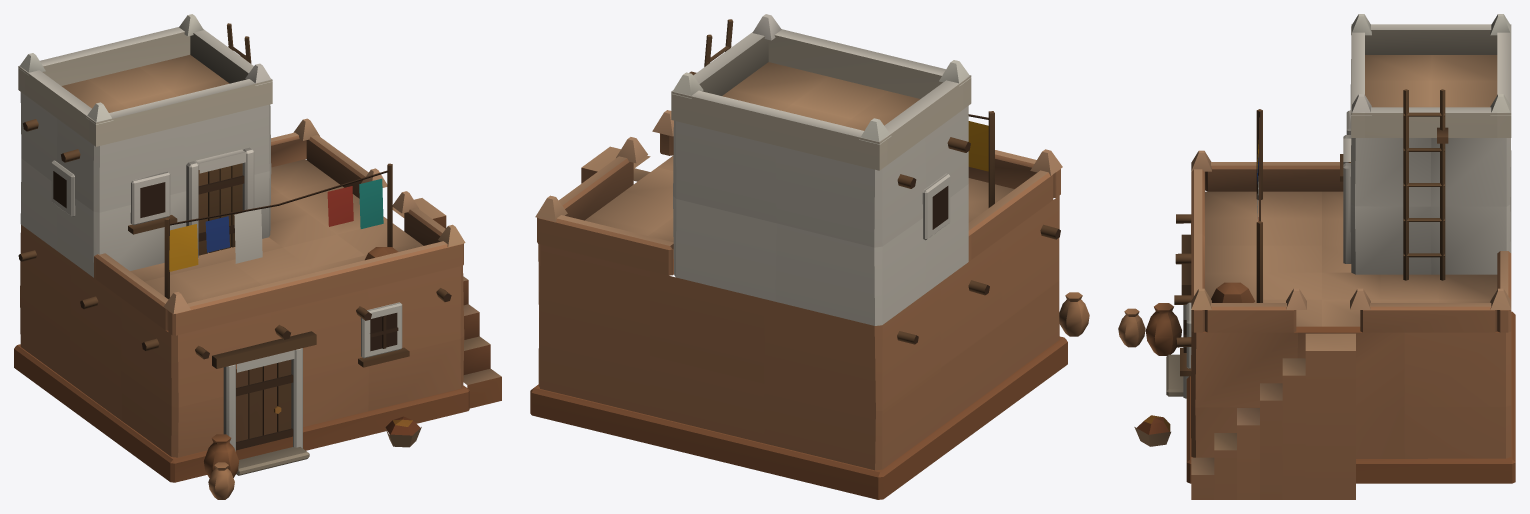
File: maison_b.glb
3 renders of one model, left to right at view 1: azimuth 30°, elevation 25°; view 2: azimuth 150°, elevation 25°; view 3: azimuth 270°, elevation 25°, orthographic. The views are drawn at different scales.
Parts seen in each view (by area): view 1: maison_b; view 2: maison_b; view 3: maison_b.
Part boxes in pixels (x1,y1,x2,y2): maison_b: (14, 14, 501, 499); maison_b: (530, 14, 1089, 499); maison_b: (1118, 14, 1515, 499).
Bounding box in the file's own units: 1.79 × 1.61 × 1.74.
